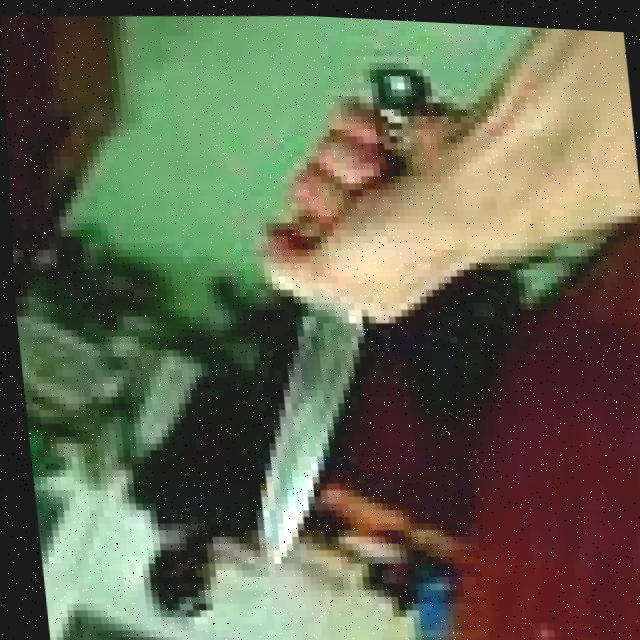knife: (236, 310, 376, 563)
